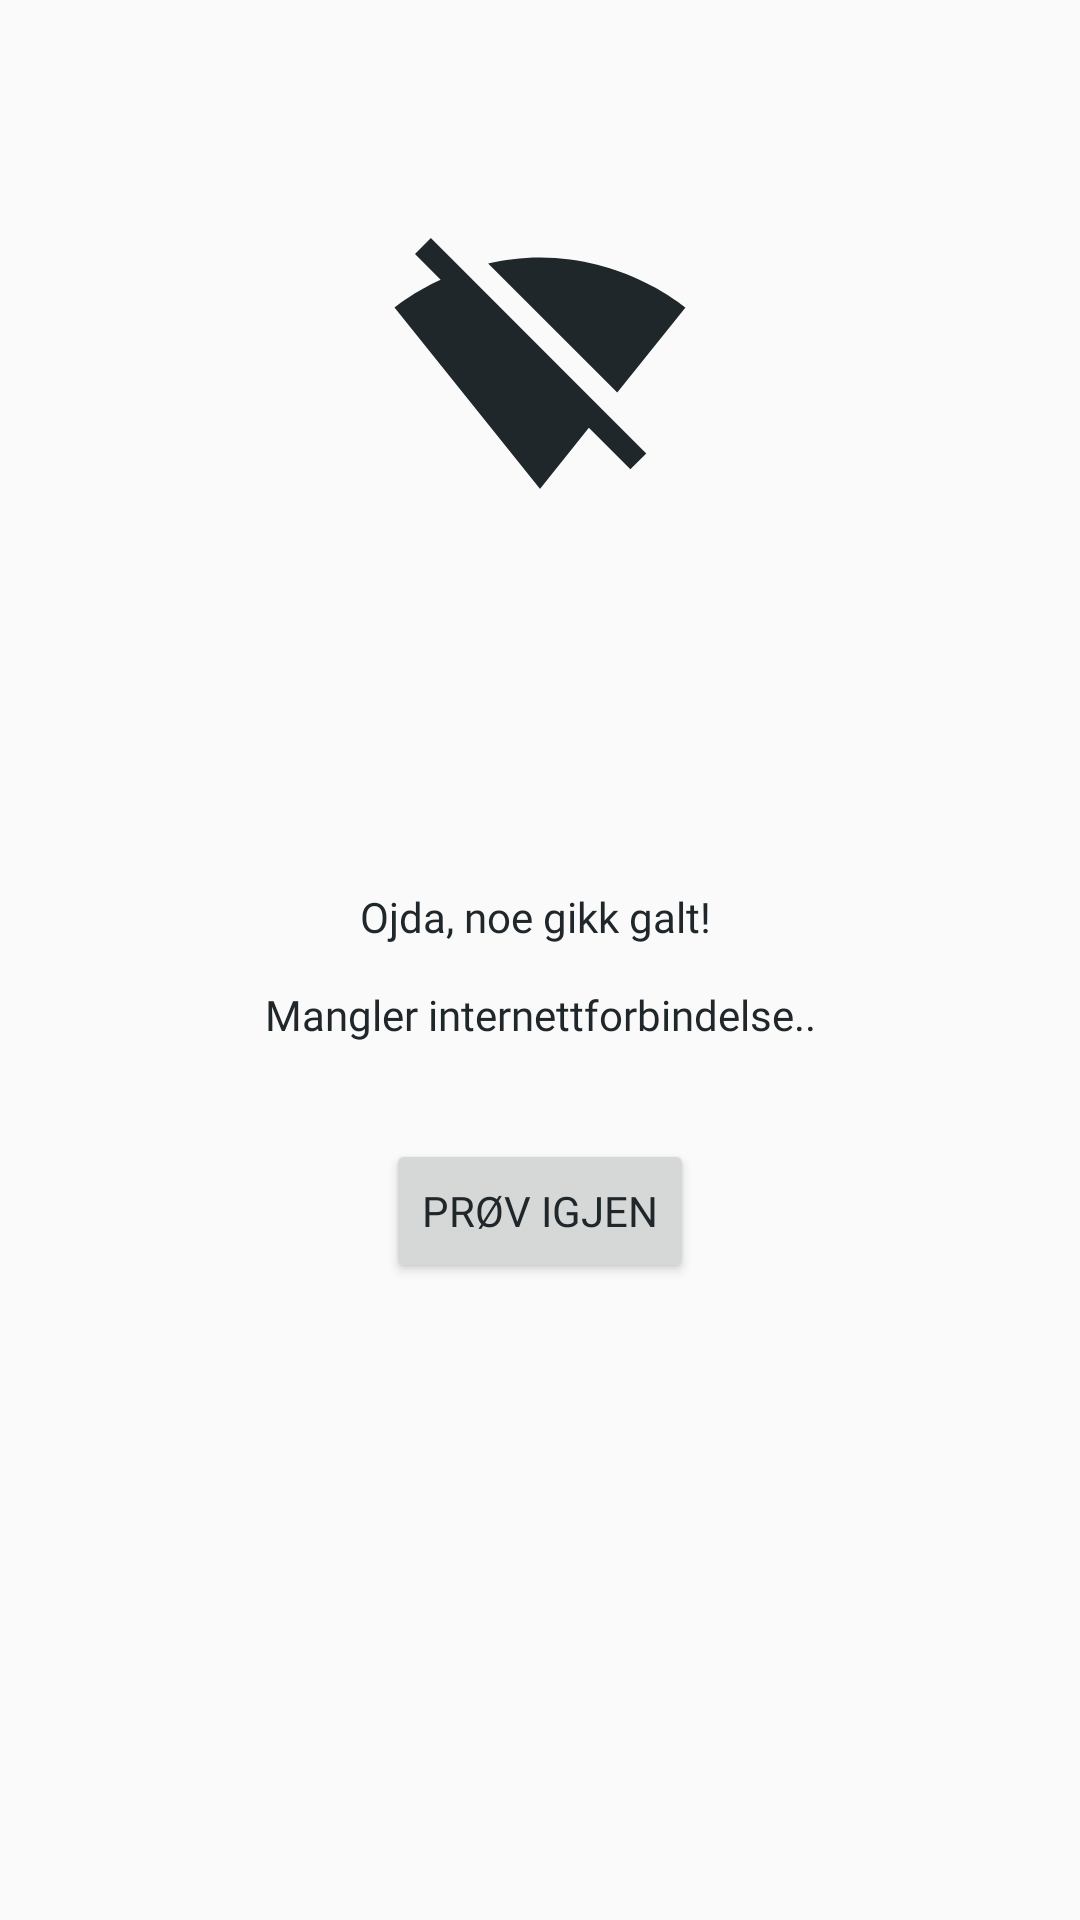

Icon bounding boxes for this 1080px x 1920px phone screenshot, format (x1, y1, x2, y2):
internett icon: (394, 238, 686, 489)
